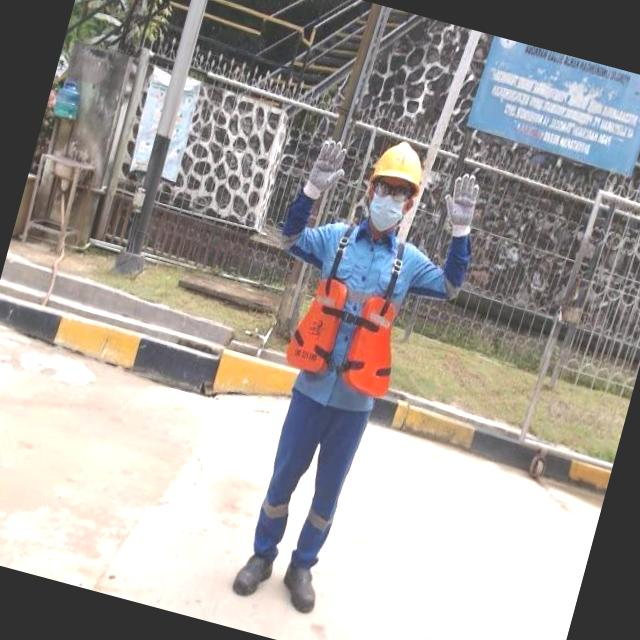vest: (280, 273, 409, 398)
